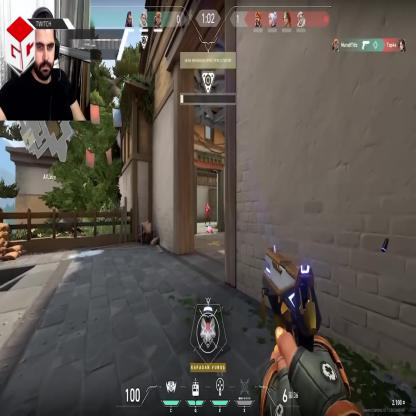enemy: (204, 202, 210, 225)
enemy_head: (207, 203, 208, 207)
